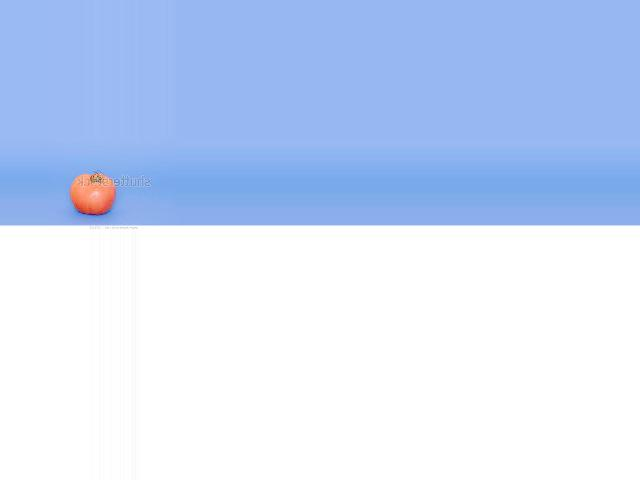tomato: (68, 173, 115, 214)
